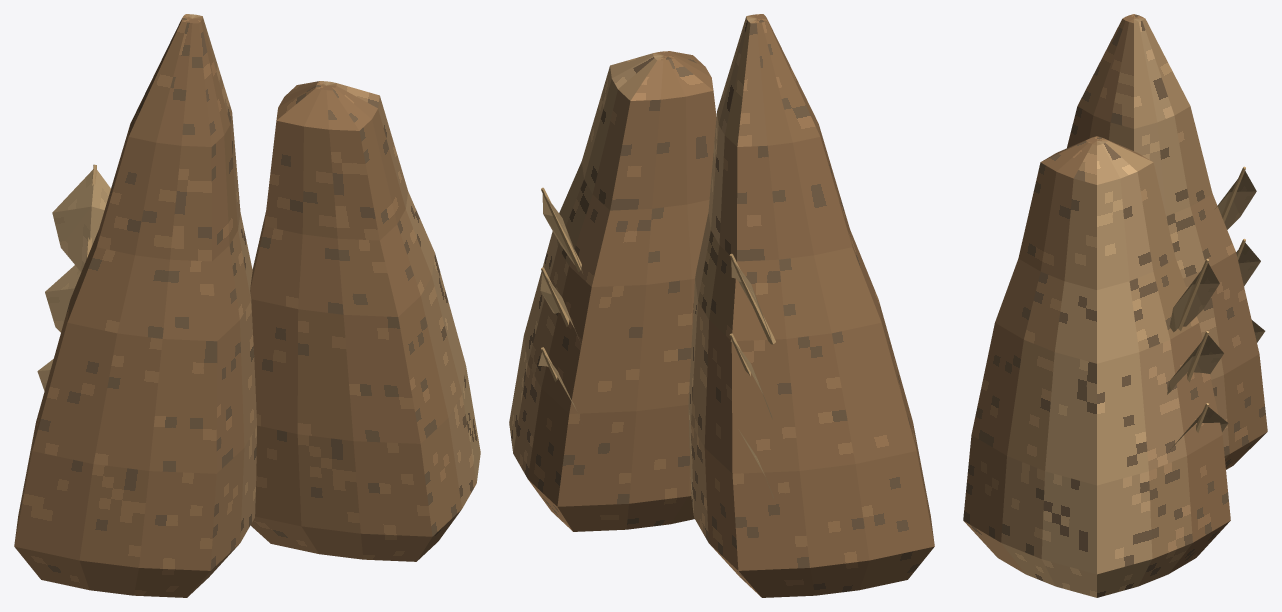
The model's file is raw_bamboo.glb.
The picture shows the model from 3 angles, left to right: view 1: azimuth 30°, elevation 25°; view 2: azimuth 150°, elevation 25°; view 3: azimuth 270°, elevation 25°; orthographic projection. The views are drawn at different scales.
Parts seen in each view (by area): view 1: block_conical layered bamboo shoot (×2), block_pointed shoot sheath blade (×2), block_pointed shoot sheath tip; view 2: block_conical layered bamboo shoot (×2); view 3: block_conical layered bamboo shoot (×2), block_pointed shoot sheath blade (×3).
Boxes of the visible parts, bbox=[...] form: block_conical layered bamboo shoot (×2): bbox=[14, 14, 480, 597]; block_pointed shoot sheath blade (×2): bbox=[45, 206, 91, 332]; block_pointed shoot sheath tip: bbox=[52, 170, 93, 212]; block_conical layered bamboo shoot (×2): bbox=[509, 14, 934, 597]; block_conical layered bamboo shoot (×2): bbox=[963, 14, 1267, 597]; block_pointed shoot sheath blade (×3): bbox=[1183, 191, 1256, 373].
Bounding box in the file's own units: 0.1318 × 0.148 × 0.0863.
Materials: 2 (2 with a texture image).
